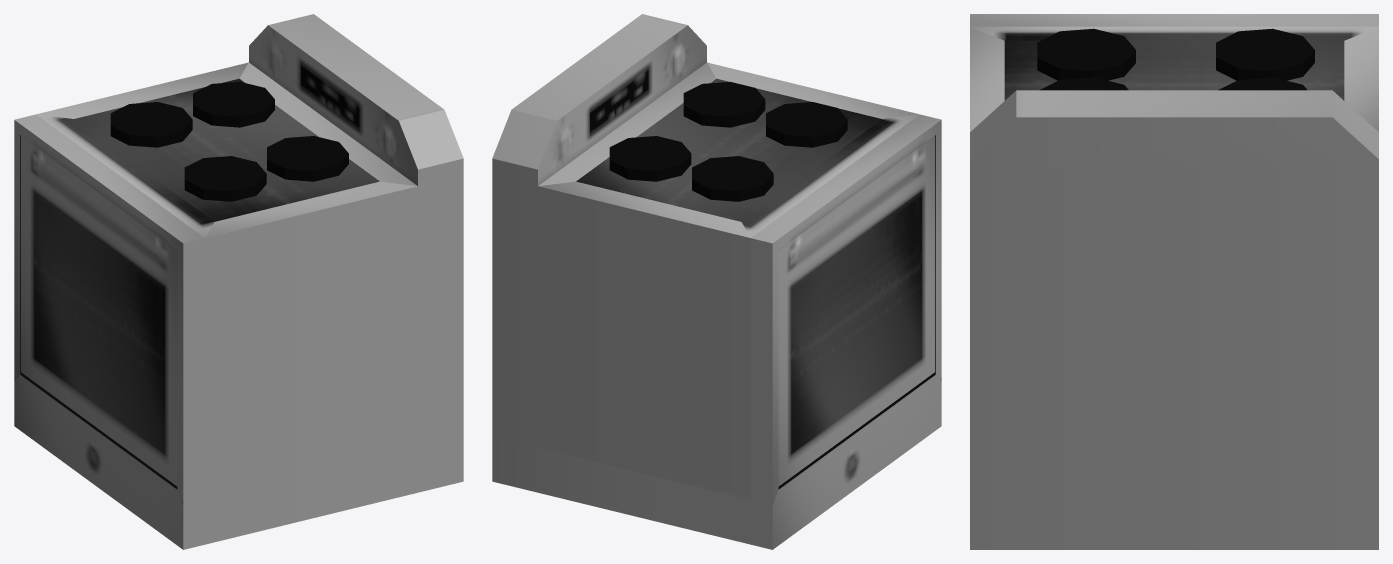
File: Oven.fbx
3 views of the same model, side by side, from view 1: azimuth 30°, elevation 25°; view 2: azimuth 150°, elevation 25°; view 3: azimuth 270°, elevation 25° (orthographic). The views are drawn at different scales.
Visible parts, largest first — view 1: Oven, OvenDoor; view 2: Oven, OvenDoor; view 3: Oven.
Part boxes in pixels (left/top/right/bottom): Oven: left=14, top=14, right=463, bottom=549; OvenDoor: left=21, top=135, right=177, bottom=486; Oven: left=492, top=14, right=941, bottom=549; OvenDoor: left=778, top=135, right=934, bottom=486; Oven: left=970, top=14, right=1378, bottom=549.
Bounding box in the file's own units: 95.73 × 117 × 100.
